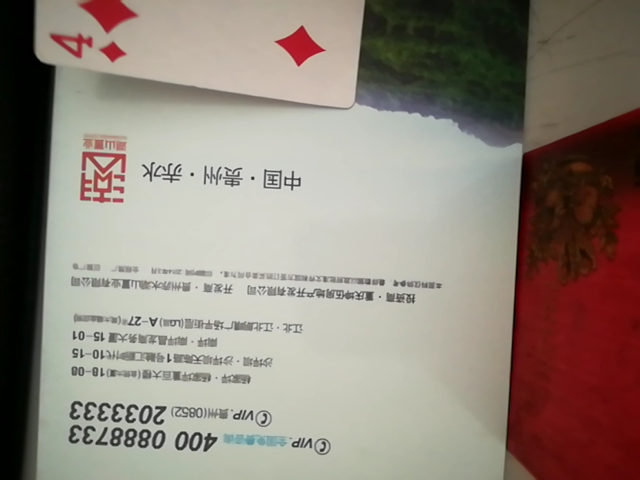fk 4: (25, 0, 384, 106)
